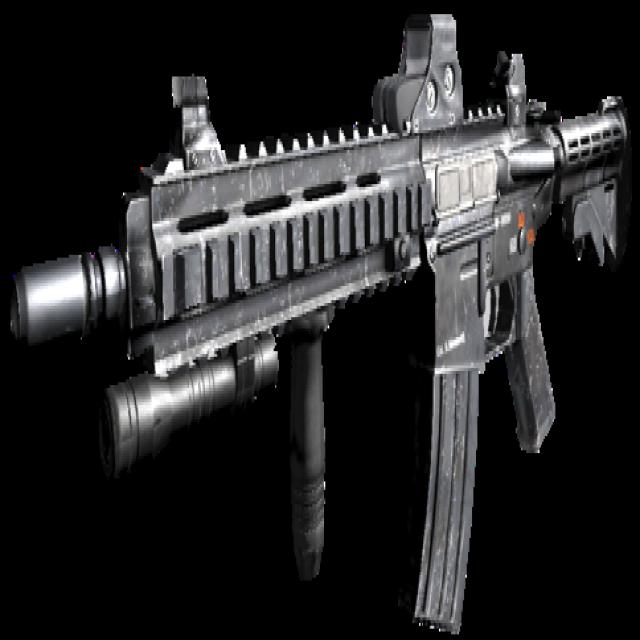Rifle: (9, 14, 632, 640)
